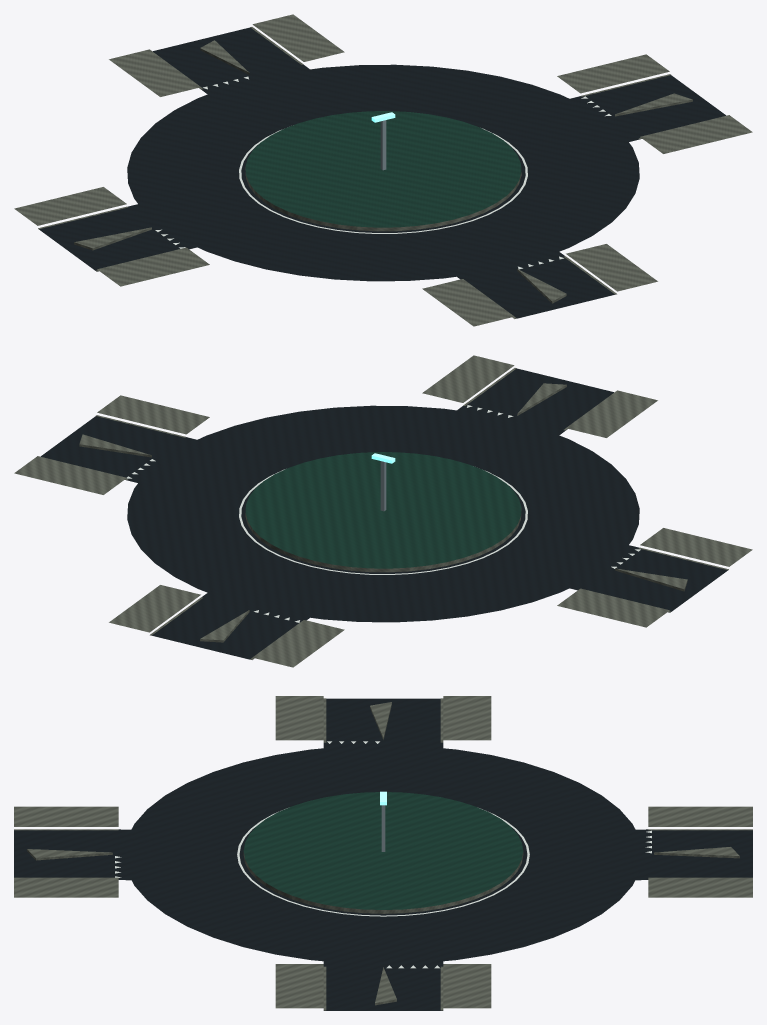
Rendered from junc_roundabout_1lane_LOD1.glb.
3 views of the same model, one above another, from view 1: azimuth 30°, elevation 25°; view 2: azimuth 150°, elevation 25°; view 3: azimuth 270°, elevation 25° (orthographic).
Parts seen in each view (by area): view 1: junc_roundabout_1lane__surface.001, junc_roundabout_1lane__center_island.001, junc_roundabout_1lane__entry_ports.001, junc_roundabout_1lane__entry_sidewalks.001, junc_roundabout_1lane__splitter_islands.001; view 2: junc_roundabout_1lane__surface.001, junc_roundabout_1lane__center_island.001, junc_roundabout_1lane__entry_ports.001, junc_roundabout_1lane__entry_sidewalks.001, junc_roundabout_1lane__splitter_islands.001; view 3: junc_roundabout_1lane__surface.001, junc_roundabout_1lane__center_island.001, junc_roundabout_1lane__entry_ports.001, junc_roundabout_1lane__entry_sidewalks.001, junc_roundabout_1lane__splitter_islands.001.
Boxes of the visible parts, left/top/right/bottom form: junc_roundabout_1lane__surface.001: left=127, top=64, right=639, bottom=281; junc_roundabout_1lane__center_island.001: left=239, top=111, right=527, bottom=233; junc_roundabout_1lane__entry_ports.001: left=39, top=27, right=725, bottom=318; junc_roundabout_1lane__entry_sidewalks.001: left=14, top=14, right=752, bottom=326; junc_roundabout_1lane__splitter_islands.001: left=74, top=40, right=692, bottom=303; junc_roundabout_1lane__surface.001: left=127, top=405, right=639, bottom=622; junc_roundabout_1lane__center_island.001: left=239, top=452, right=527, bottom=574; junc_roundabout_1lane__entry_ports.001: left=41, top=368, right=727, bottom=659; junc_roundabout_1lane__entry_sidewalks.001: left=14, top=355, right=752, bottom=667; junc_roundabout_1lane__splitter_islands.001: left=79, top=383, right=687, bottom=642; junc_roundabout_1lane__surface.001: left=124, top=745, right=642, bottom=964; junc_roundabout_1lane__center_island.001: left=237, top=792, right=529, bottom=916; junc_roundabout_1lane__entry_ports.001: left=14, top=698, right=752, bottom=1010; junc_roundabout_1lane__entry_sidewalks.001: left=14, top=696, right=752, bottom=1010; junc_roundabout_1lane__splitter_islands.001: left=27, top=702, right=739, bottom=1005.
Size of the model in its own units: 37 by 3.2 by 37.
7 materials, 4 textured.
